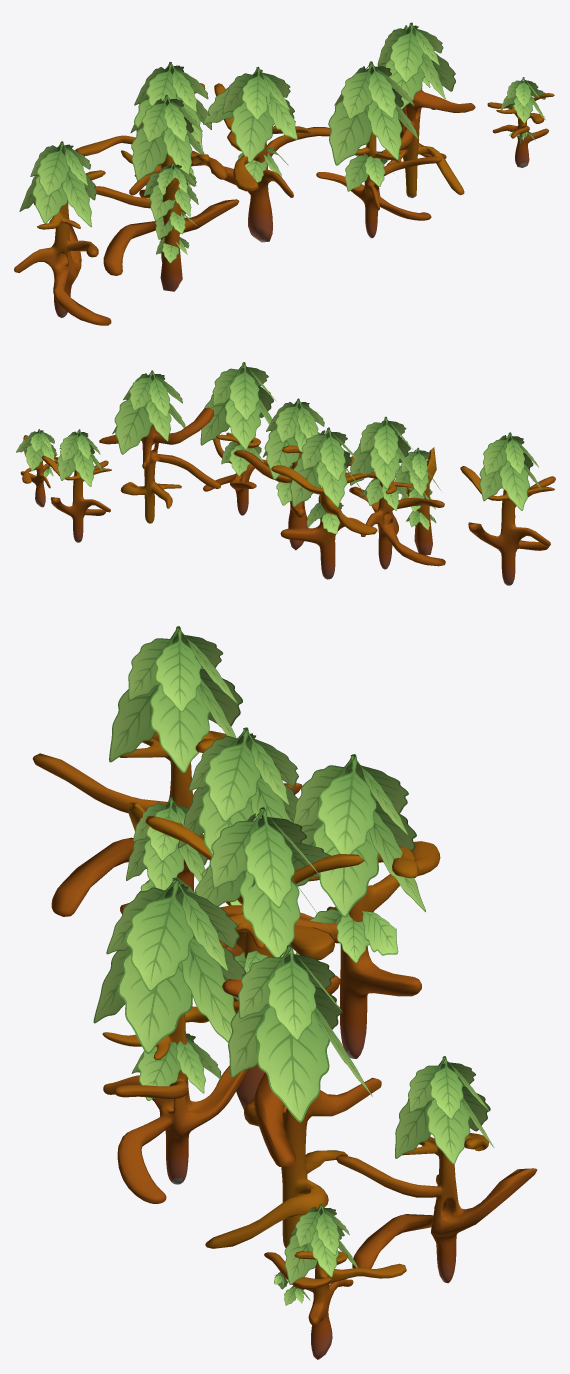
Rendered from nuevo_arboles.glb.
The picture shows the model from 3 angles, top to bottom: view 1: azimuth 30°, elevation 25°; view 2: azimuth 150°, elevation 25°; view 3: azimuth 270°, elevation 25°; orthographic projection. The views are drawn at different scales.
Visible parts, largest first — view 1: Empty.147, Empty.144, Arbol.008, Empty.206, Arbol.003, Empty.146, Arbol.005, Arbol.006, Arbol.001, Empty.145, Empty.148, Arbol.002 (+16 smaller); view 2: Empty.147, Arbol.006, Arbol.008, Empty.145, Arbol.004, Empty.206, Empty.146, Arbol.005, Empty.144, Arbol.009, Empty.002, Empty.095 (+17 smaller); view 3: Empty.147, Empty.206, Empty.145, Empty.144, Arbol.001, Arbol.006, Arbol.009, Empty.146, Arbol.004, Arbol.008, Empty.002, Empty.108 (+16 smaller).
Part boxes in pixels (x1=…): Empty.147: x1=328, y1=61, x2=402, y2=165; Empty.144: x1=203, y1=66, x2=297, y2=163; Arbol.008: x1=14, y1=170, x2=111, y2=325; Empty.206: x1=19, y1=141, x2=91, y2=227; Arbol.003: x1=210, y1=83, x2=330, y2=242; Empty.146: x1=131, y1=94, x2=192, y2=181; Arbol.005: x1=95, y1=150, x2=239, y2=275; Arbol.006: x1=381, y1=89, x2=475, y2=197; Arbol.001: x1=316, y1=132, x2=441, y2=238; Empty.145: x1=130, y1=62, x2=202, y2=149; Empty.148: x1=149, y1=162, x2=191, y2=221; Arbol.002: x1=160, y1=177, x2=183, y2=291; Empty.147: x1=200, y1=362, x2=276, y2=449; Arbol.006: x1=99, y1=407, x2=220, y2=523; Arbol.008: x1=460, y1=466, x2=555, y2=585; Empty.145: x1=290, y1=427, x2=347, y2=507; Arbol.004: x1=271, y1=465, x2=377, y2=579; Empty.206: x1=479, y1=432, x2=529, y2=510; Empty.146: x1=350, y1=416, x2=419, y2=489; Arbol.005: x1=349, y1=436, x2=445, y2=569; Empty.144: x1=262, y1=398, x2=318, y2=479; Arbol.009: x1=41, y1=455, x2=111, y2=542; Empty.002: x1=57, y1=429, x2=94, y2=486; Empty.095: x1=114, y1=396, x2=155, y2=454; Empty.147: x1=93, y1=877, x2=235, y2=1053; Empty.206: x1=109, y1=626, x2=237, y2=772; Empty.145: x1=293, y1=754, x2=425, y2=917; Empty.144: x1=194, y1=806, x2=334, y2=957; Arbol.001: x1=102, y1=1001, x2=249, y2=1203; Arbol.006: x1=205, y1=979, x2=381, y2=1248; Arbol.009: x1=336, y1=1133, x2=537, y2=1283; Empty.146: x1=177, y1=727, x2=291, y2=855; Arbol.004: x1=220, y1=841, x2=440, y2=1058; Arbol.008: x1=32, y1=731, x2=302, y2=916; Empty.002: x1=395, y1=1056, x2=494, y2=1164; Empty.108: x1=255, y1=1006, x2=329, y2=1122.
Size of what is drawn, in the model's own units: 329 by 102 by 143.
Materials: 2 (2 with a texture image).
